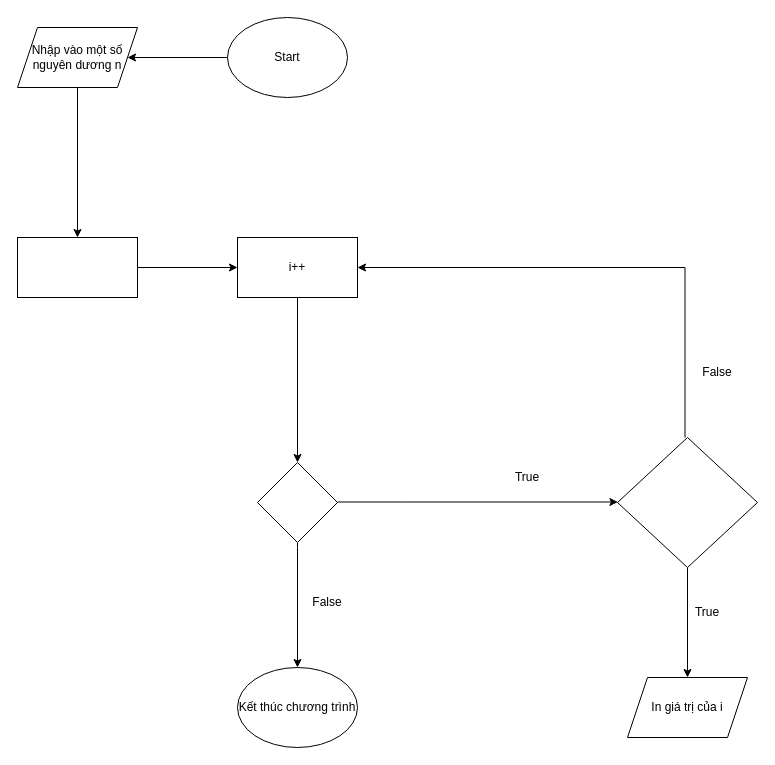
This 775x765 diagram has some shape labels left out. The box of each missing label's shape, as (x1, y1, x2, y2) in pixels:
i <= n: (256, 462, 338, 542)
i=0: (16, 236, 138, 298)
n%i==0: (616, 436, 758, 568)
